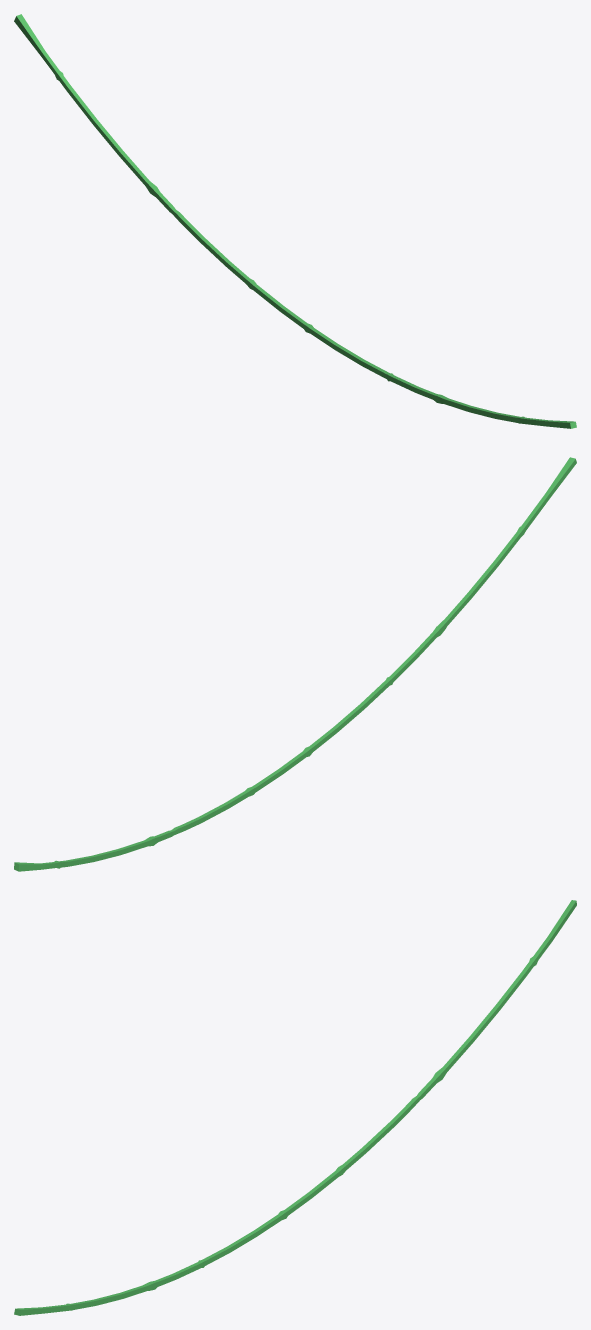
Rendered from jungle_slime_E_knots.fbx.
The picture shows the model from 3 angles, top to bottom: view 1: azimuth 30°, elevation 25°; view 2: azimuth 150°, elevation 25°; view 3: azimuth 330°, elevation 25°; orthographic projection.
Parts seen in each view (by area): view 1: jungle_slime_E_knots; view 2: jungle_slime_E_knots; view 3: jungle_slime_E_knots.
Part boxes in pixels (x1,y1,x2,y2): jungle_slime_E_knots: (14, 14, 576, 428); jungle_slime_E_knots: (14, 457, 576, 871); jungle_slime_E_knots: (14, 900, 576, 1315).
Bounding box in the file's own units: 4.52 × 69.67 × 669.
